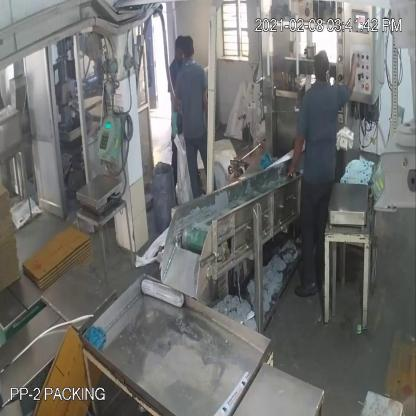no_glove: (282, 130, 311, 184), (341, 48, 365, 106)
